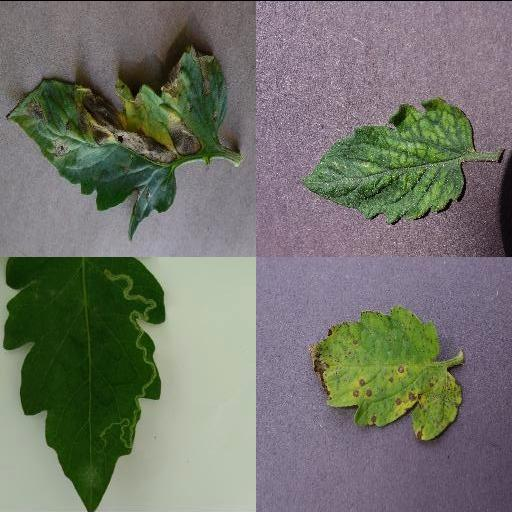Early Blight: (5, 43, 225, 240)
Leaf Miner: (3, 256, 168, 512)
Mosaic Virus: (294, 97, 474, 223)
Septoria: (309, 305, 463, 440)
